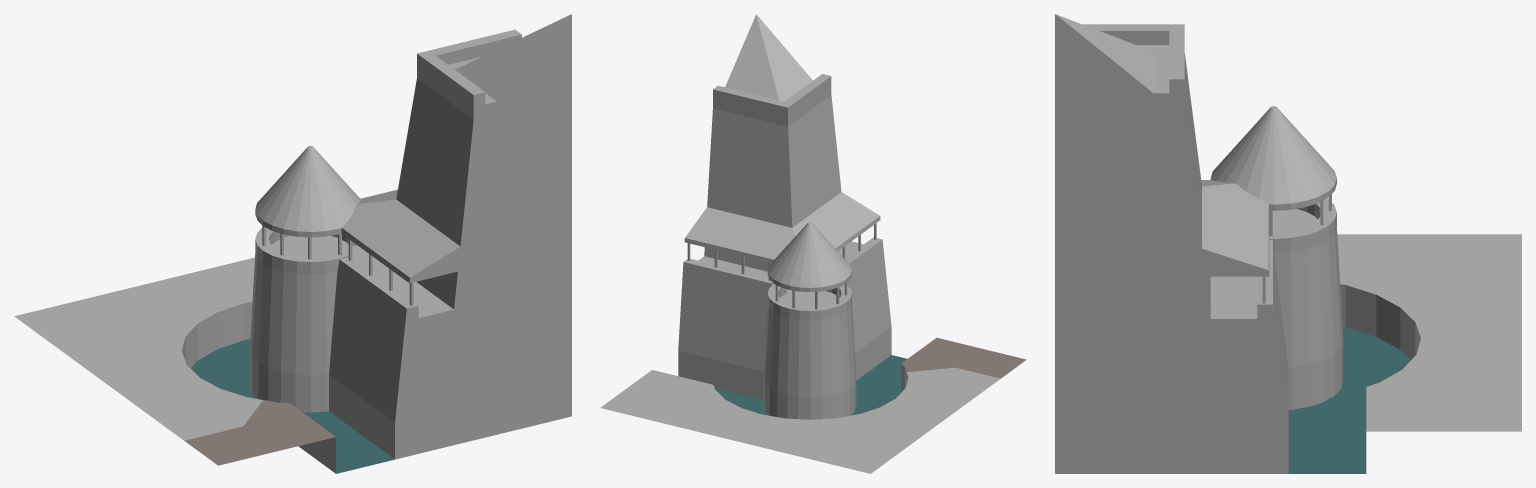
Rendered from wwcr.obj.
3 views of the same model, side by side, from view 1: azimuth 30°, elevation 25°; view 2: azimuth 150°, elevation 25°; view 3: azimuth 270°, elevation 25° (orthographic). The views are drawn at different scales.
Visible parts, largest first — view 1: wwcr; view 2: wwcr; view 3: wwcr.
Part boxes in pixels (x1,y1,x2,y2): wwcr: (14,14,571,473); wwcr: (600,14,1026,473); wwcr: (1055,14,1521,473).
Bounding box in the file's own units: 30 × 32.63 × 30.
